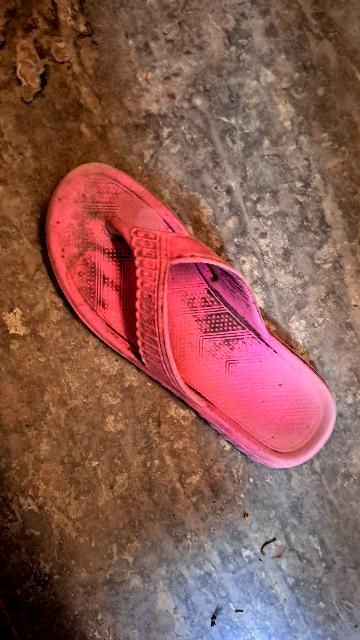sandal: (8, 127, 360, 497)
